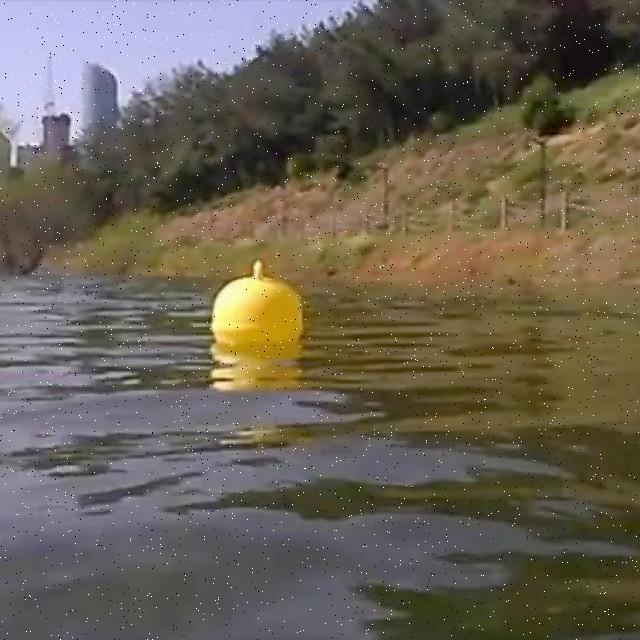buoy: (213, 259, 305, 348)
